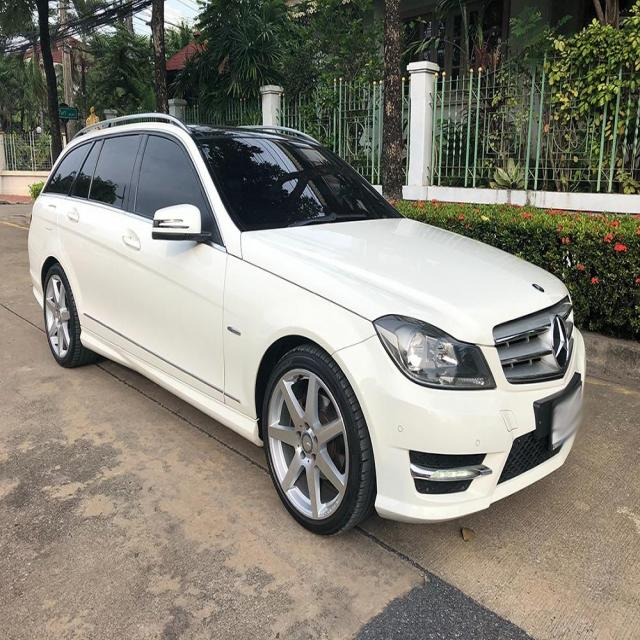back_right_door: (59, 126, 146, 349)
front_bumper: (331, 299, 588, 525)
front_glass: (193, 137, 405, 233)
front_right_door: (115, 127, 227, 403)
front_right_light: (372, 315, 499, 391)
hood: (241, 216, 572, 347)
right_mirror: (152, 203, 212, 243)
wheel: (43, 262, 377, 538)
